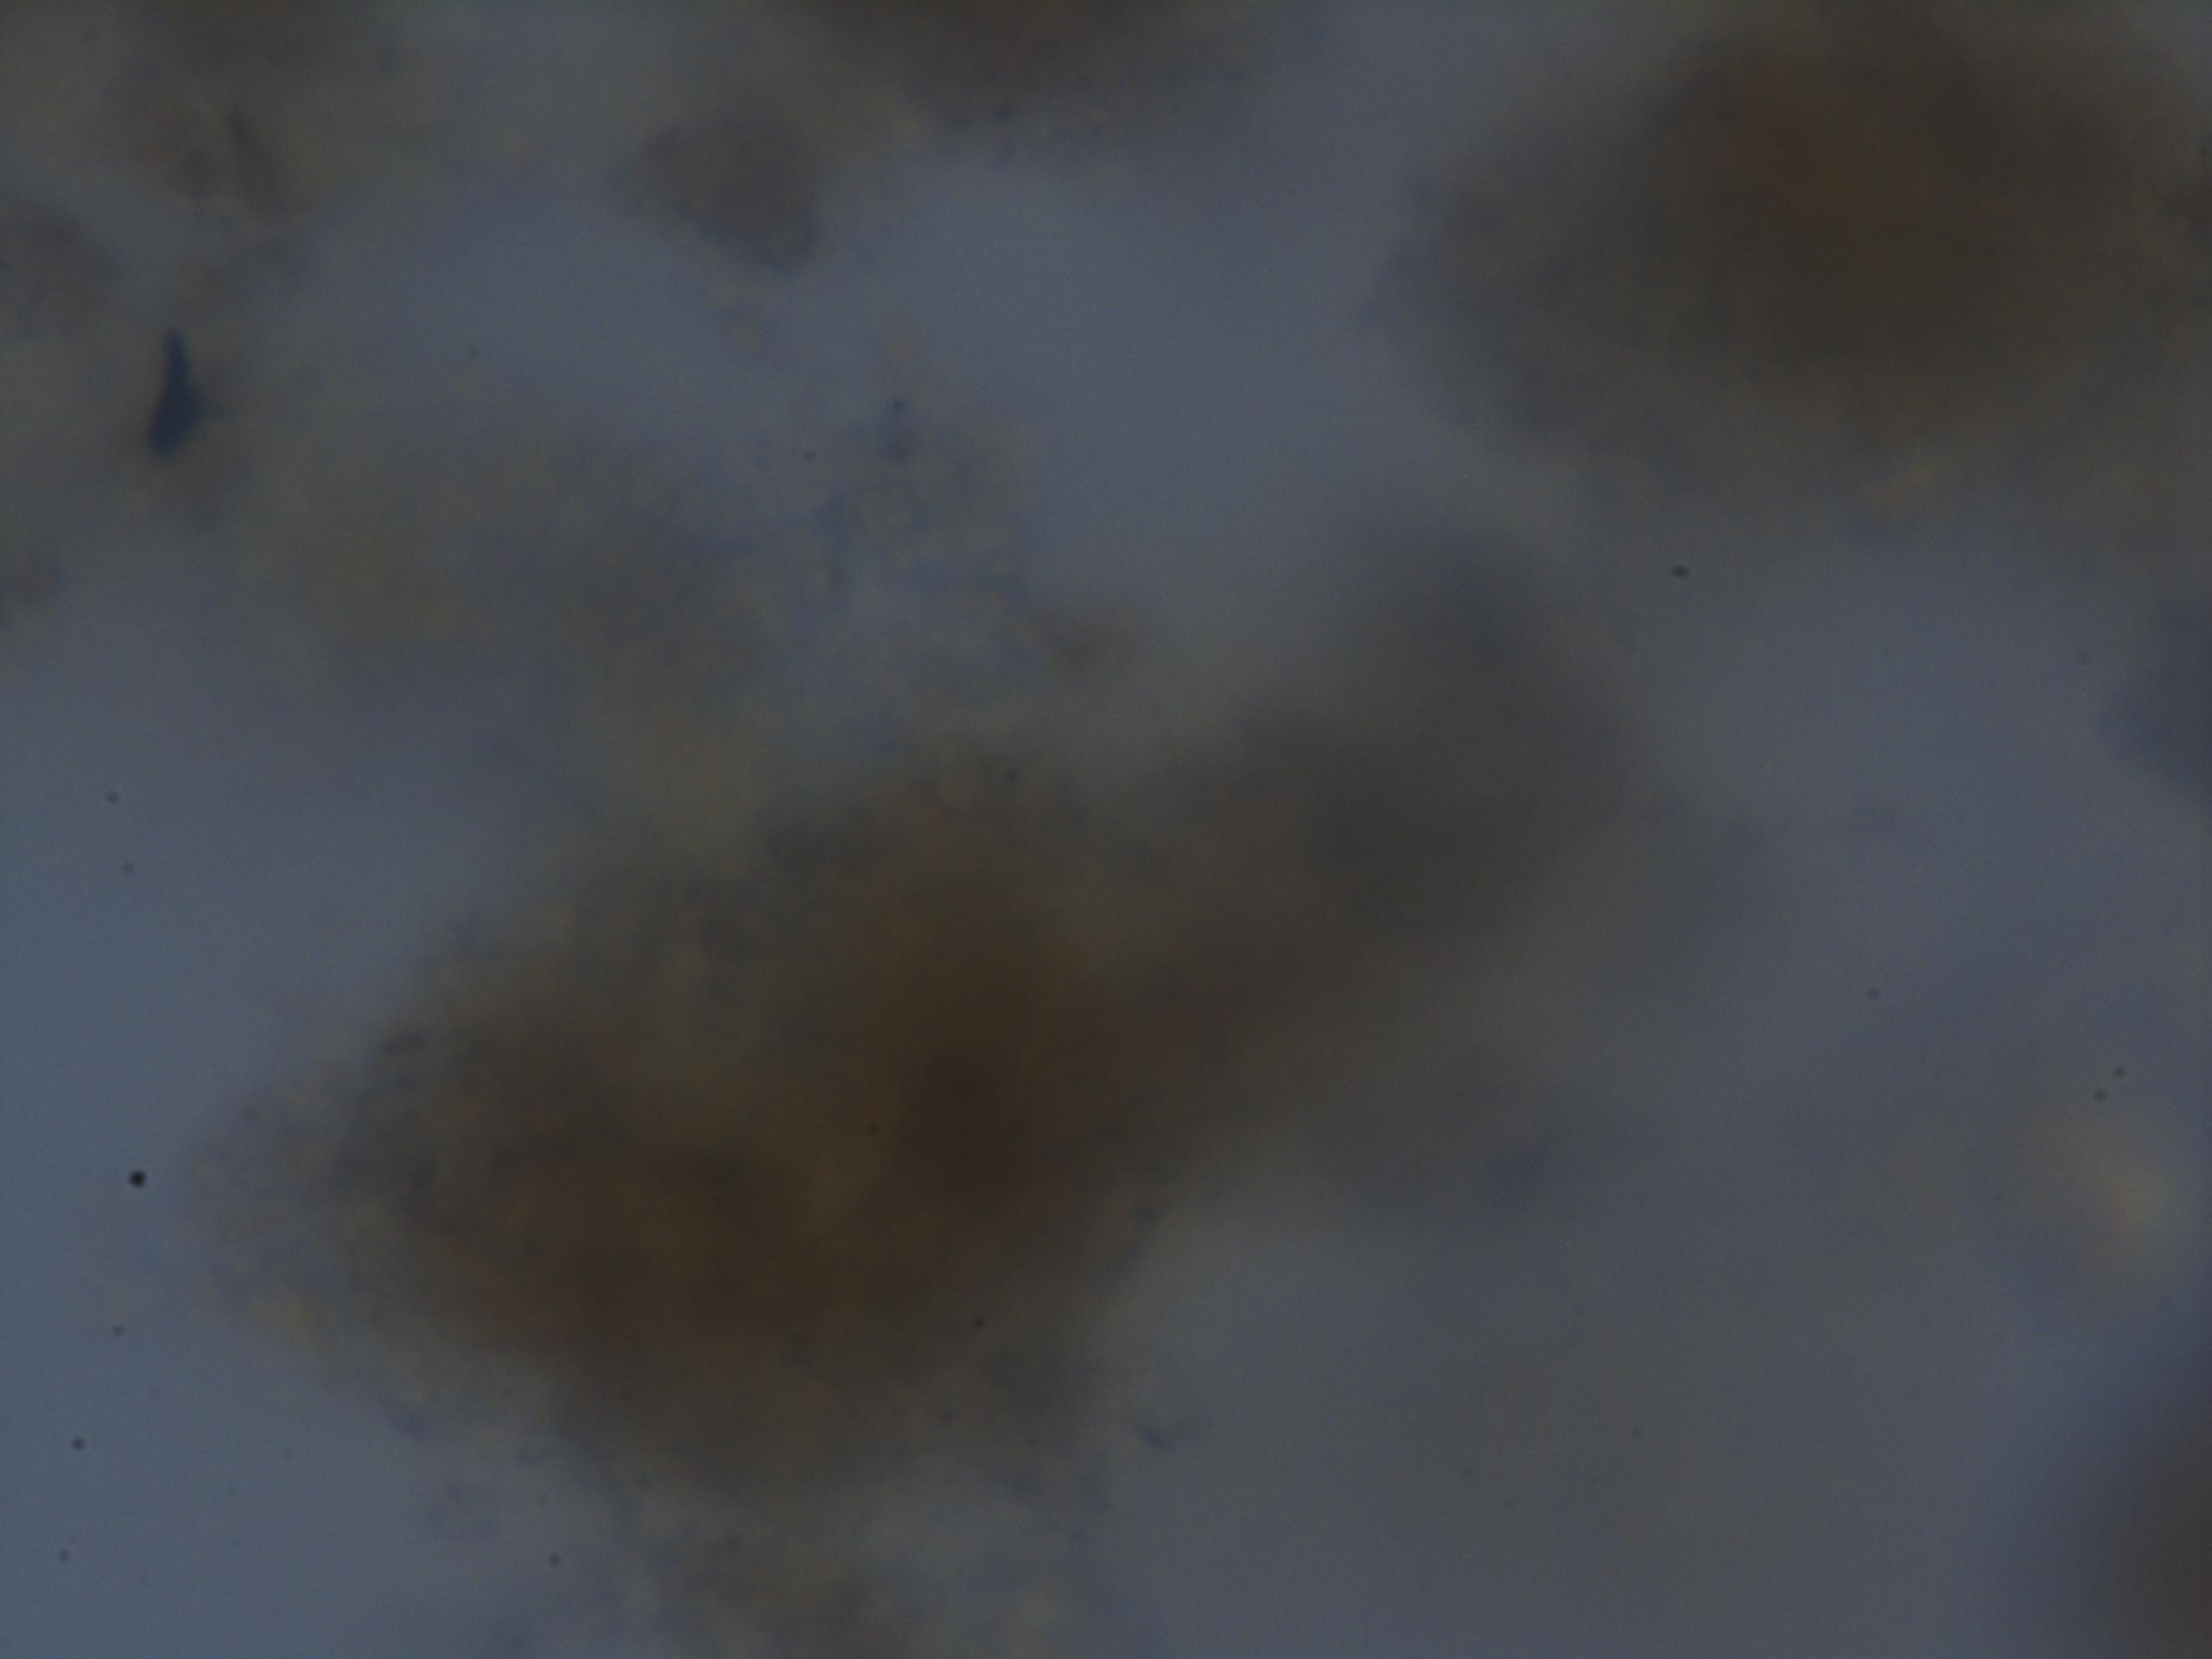spherical_floc: (324, 723, 1322, 1654)
